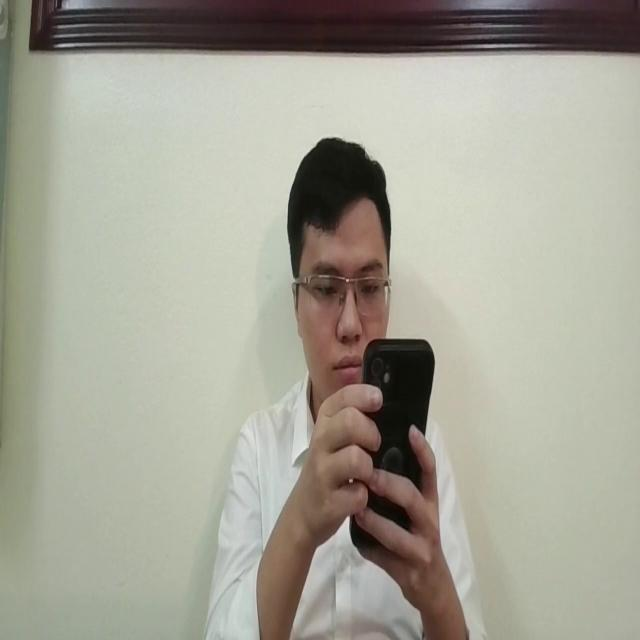phone: (347, 327, 433, 545)
student: (210, 130, 484, 640)
